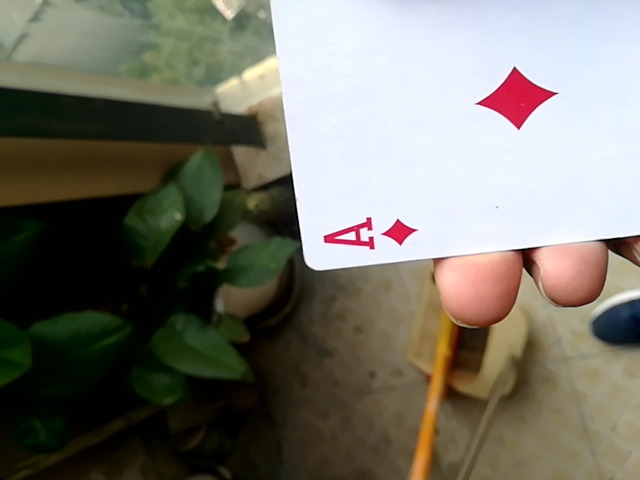fk a: (264, 0, 639, 268)
